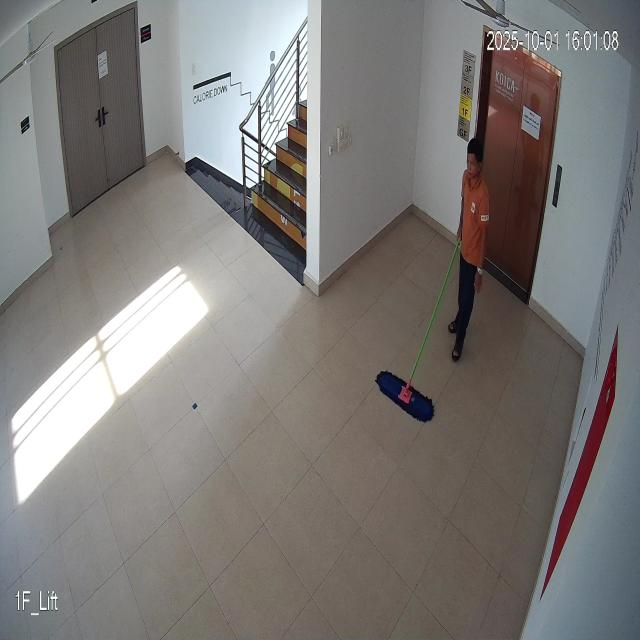face: (466, 134, 484, 184)
